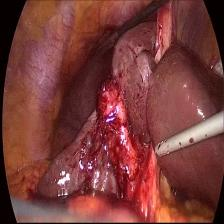Grasper: (92, 22, 120, 64)
Irrigator: (152, 131, 182, 163)
